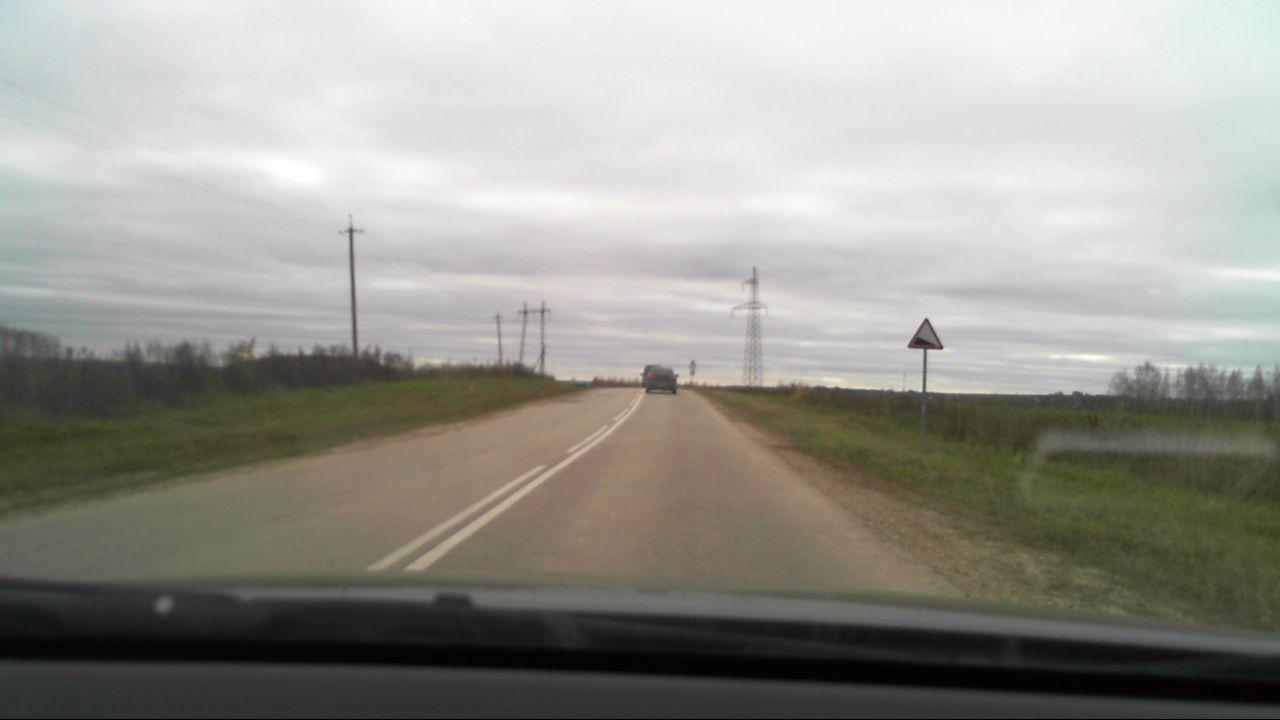1_13: (905, 316, 945, 350)
